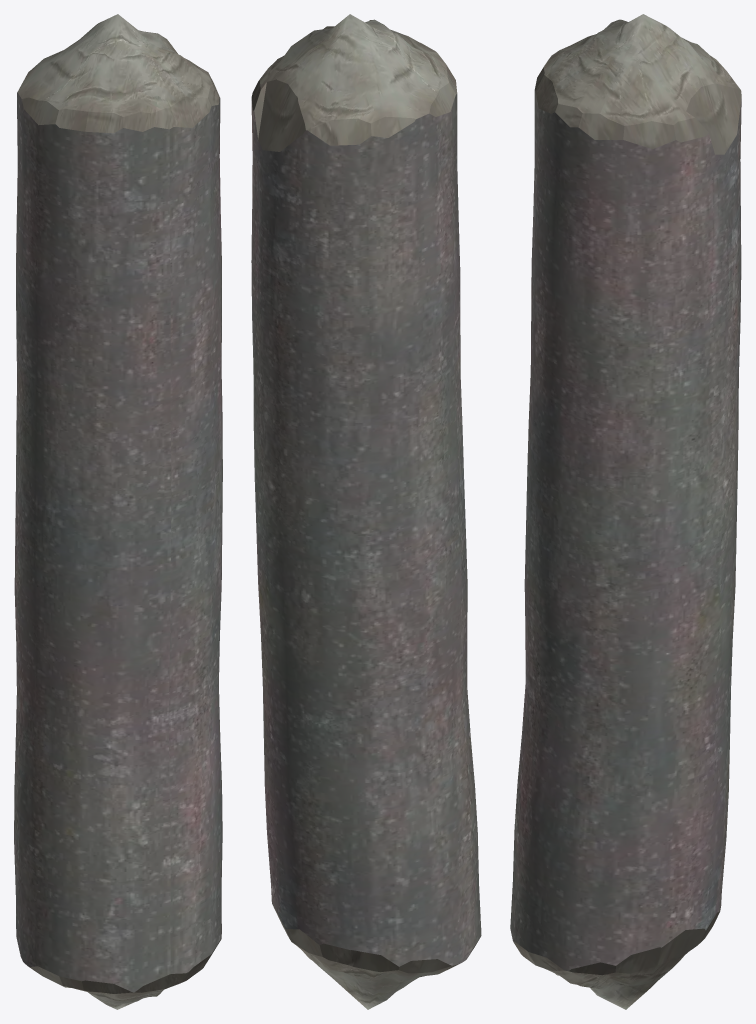
The picture shows the model from 3 angles, left to right: view 1: azimuth 30°, elevation 25°; view 2: azimuth 150°, elevation 25°; view 3: azimuth 270°, elevation 25°; orthographic projection.
Visible parts, largest first — view 1: SM_GF_Ash_Tree_03_quarter_02_LOD0; view 2: SM_GF_Ash_Tree_03_quarter_02_LOD0; view 3: SM_GF_Ash_Tree_03_quarter_02_LOD0.
Part boxes in pixels (x1,y1,x2,y2): SM_GF_Ash_Tree_03_quarter_02_LOD0: (14,14,222,1009); SM_GF_Ash_Tree_03_quarter_02_LOD0: (251,14,481,1009); SM_GF_Ash_Tree_03_quarter_02_LOD0: (510,14,741,1009).
Size of the model in its own units: 0.4907 by 2.46 by 0.5163.
1 material, 1 textured.
